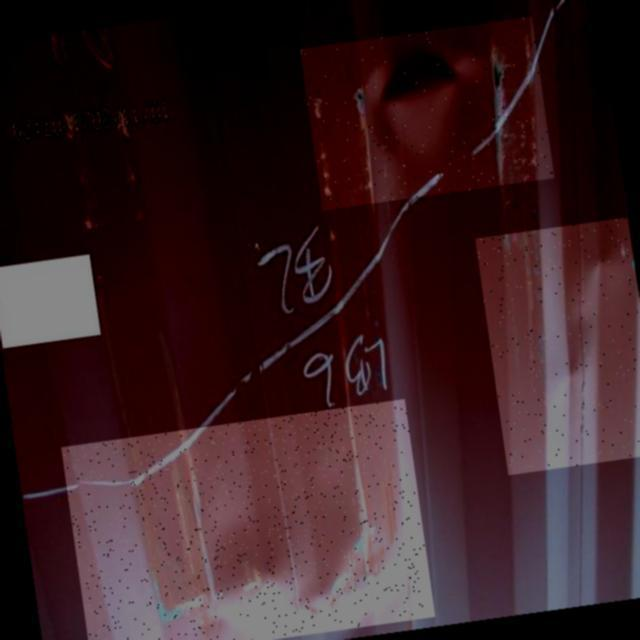dent: (62, 399, 436, 640), (302, 18, 556, 212), (476, 218, 640, 476)
